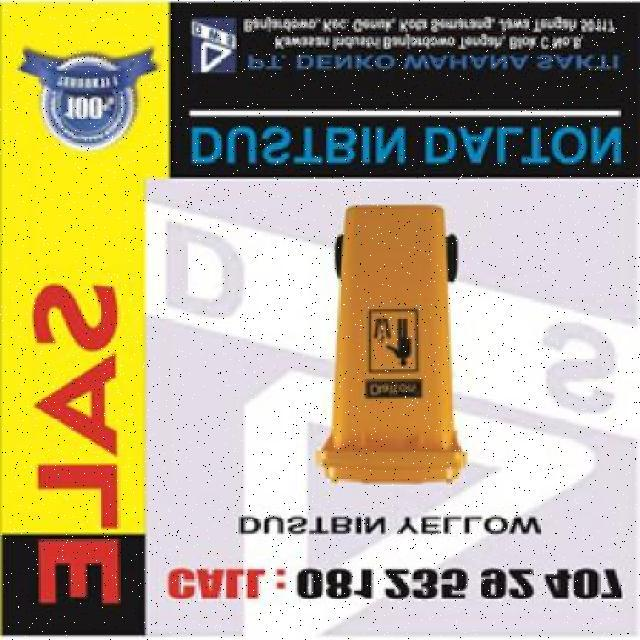garbage container: (314, 193, 473, 495)
